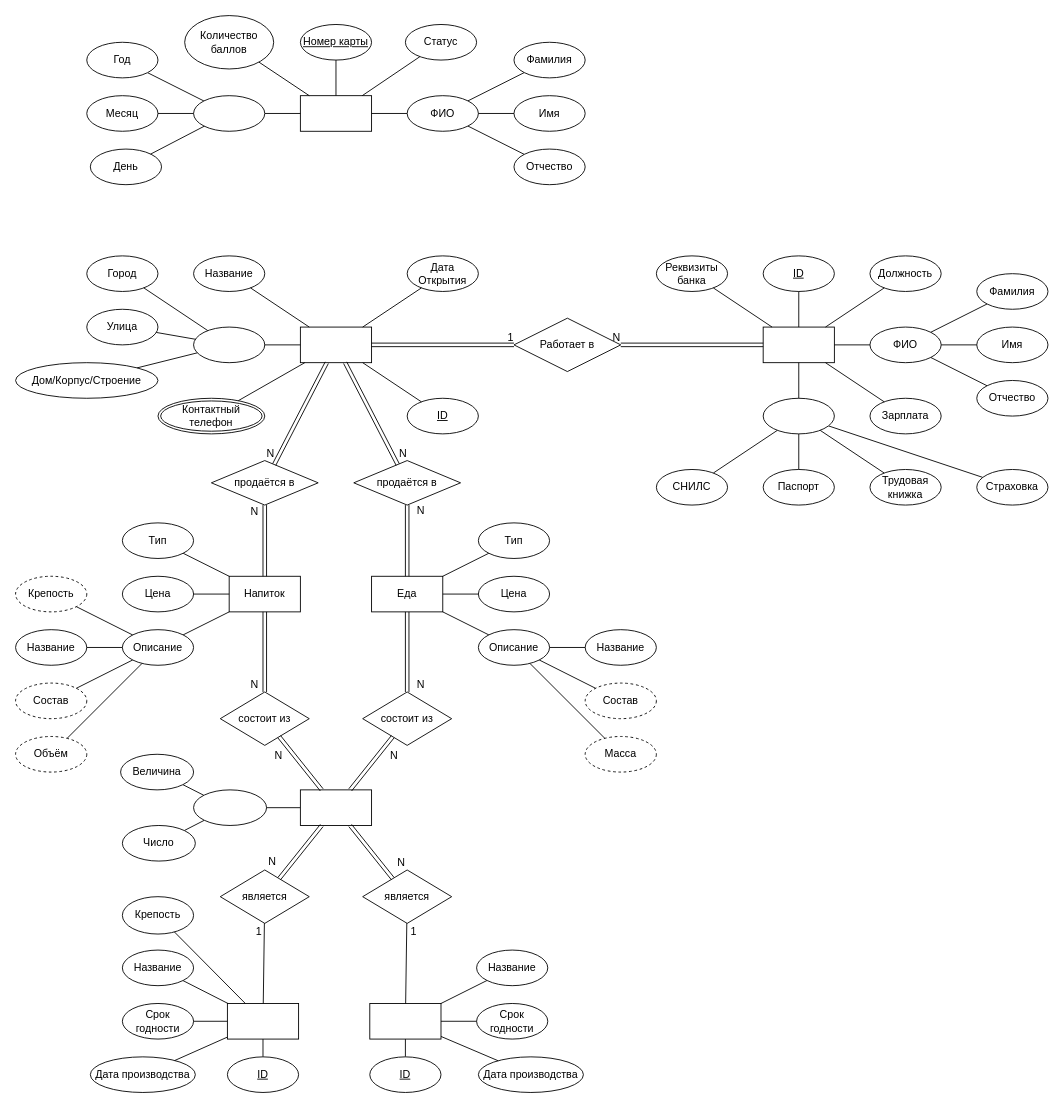
Image size: 1064x1108. Some labels were removed from this diagram. The centre of each missing label's shape, as x and y in pixels:
Адрес: [229,344]
Алкоголь: [263,1021]
Бар: [335,344]
День Рождения: [229,113]
Документы: [798,415]
Ингридиент: [335,807]
Клиент: [335,113]
Количество: [230,807]
Продукт (не алко): [405,1021]
Сотрудник: [798,344]
